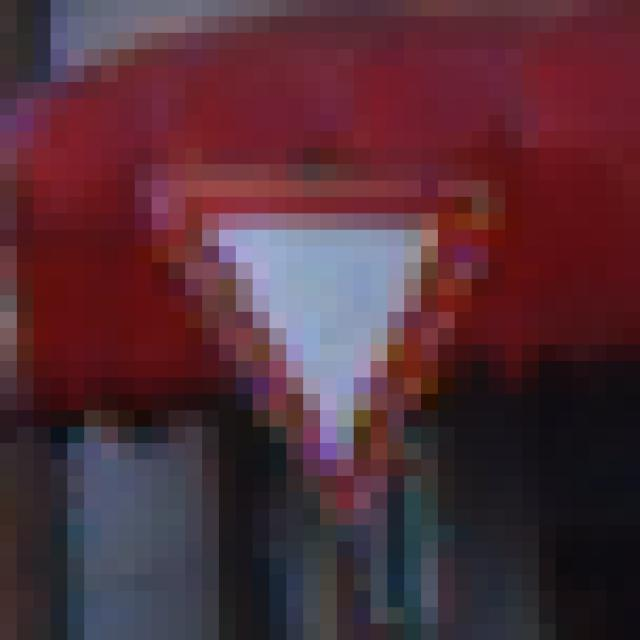Give Way: (85, 99, 557, 559)
